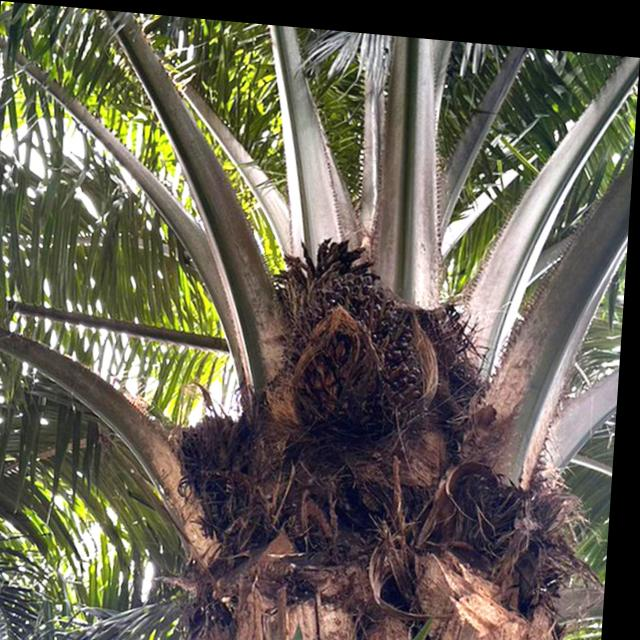almost: (282, 254, 438, 432)
